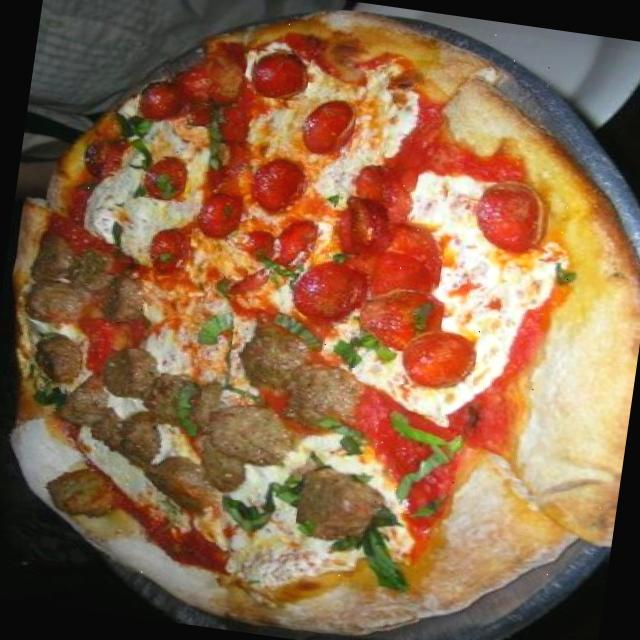basil: (372, 408, 462, 520), (333, 512, 419, 596), (222, 466, 301, 538), (307, 412, 378, 457), (328, 334, 398, 374), (106, 112, 160, 162), (266, 311, 325, 352), (196, 105, 230, 174), (194, 307, 235, 353), (170, 381, 202, 436), (26, 376, 68, 409)
pepperoni: (358, 220, 446, 304), (350, 283, 444, 360), (468, 174, 554, 258), (164, 39, 248, 111), (396, 326, 478, 394), (288, 258, 369, 326), (348, 158, 418, 234), (332, 189, 395, 262), (295, 96, 357, 160), (250, 156, 307, 218), (251, 47, 311, 102), (130, 74, 192, 124), (268, 215, 318, 273), (142, 224, 191, 279), (192, 190, 242, 242), (140, 154, 188, 202), (222, 260, 270, 300), (238, 224, 278, 266)
pizza: (13, 10, 640, 635)
